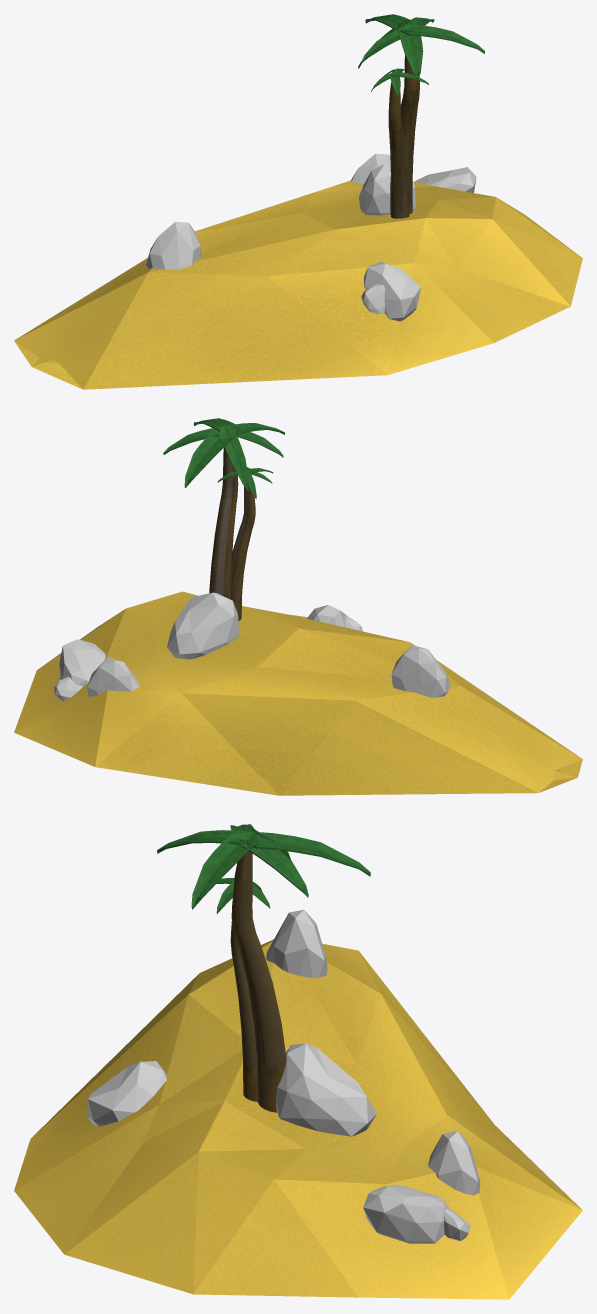
File: island2.fbx
3 views of the same model, one above another, from view 1: azimuth 30°, elevation 25°; view 2: azimuth 150°, elevation 25°; view 3: azimuth 270°, elevation 25° (orthographic). The views are drawn at different scales.
Visible parts, largest first — view 1: Icosphere, Icosphere.003, Cylinder.001, Icosphere.007, Cylinder, Icosphere.001, Icosphere.005, Plane.003, Plane.002, Icosphere.002, Icosphere.006; view 2: Icosphere, Icosphere.001, Cylinder, Icosphere.007, Cylinder.001, Icosphere.005, Icosphere.006, Plane, Plane.005, Icosphere.003; view 3: Icosphere, Icosphere.001, Cylinder, Icosphere.005, Icosphere.003, Icosphere.007, Icosphere.006, Cylinder.001, Plane.002, Plane, Plane.001, Plane.003 (+1 smaller).
Part boxes in pixels (box(x1,y1,x2,y2)): Icosphere: box(14, 180, 582, 389); Icosphere.003: box(364, 261, 420, 321); Cylinder.001: box(388, 82, 409, 218); Icosphere.007: box(146, 221, 200, 269); Cylinder: box(390, 55, 419, 214); Icosphere.001: box(359, 164, 415, 215); Icosphere.005: box(414, 167, 476, 192); Plane.003: box(398, 25, 423, 80); Plane.002: box(399, 24, 484, 53); Icosphere.002: box(361, 284, 384, 314); Icosphere.006: box(351, 153, 390, 183); Icosphere: box(14, 591, 582, 795); Icosphere.001: box(167, 592, 238, 659); Cylinder: box(209, 447, 238, 599); Icosphere.007: box(391, 645, 450, 697); Cylinder.001: box(231, 486, 255, 621); Icosphere.005: box(59, 639, 105, 685); Icosphere.006: box(87, 657, 139, 696); Plane: box(184, 429, 235, 487); Plane.005: box(219, 425, 248, 491); Icosphere.003: box(307, 605, 346, 627); Icosphere: box(14, 939, 582, 1299); Icosphere.001: box(276, 1043, 376, 1136); Cylinder: box(231, 851, 286, 1112); Icosphere.005: box(363, 1184, 449, 1243); Icosphere.003: box(87, 1061, 166, 1126); Icosphere.007: box(266, 909, 327, 977); Icosphere.006: box(428, 1131, 479, 1195); Cylinder.001: box(230, 921, 257, 1101); Plane.002: box(191, 832, 258, 909); Plane: box(240, 832, 370, 876); Plane.001: box(242, 837, 308, 897); Plane.003: box(157, 830, 259, 853).
Bounding box in the file's own units: 688 × 354 × 466.
